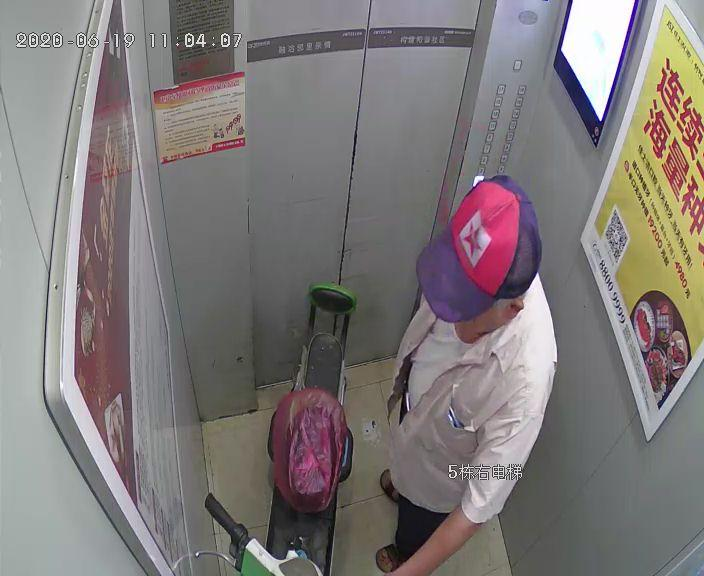Electric-bicycle: (193, 284, 361, 575)
